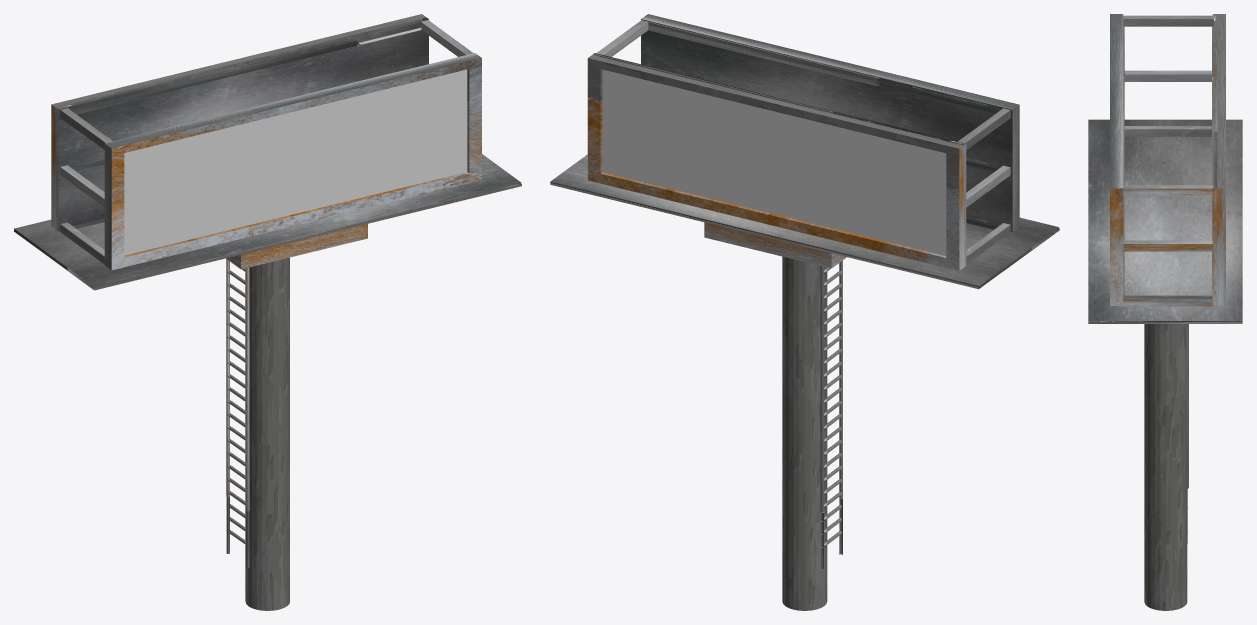
Rendered from cartel.fbx.
3 views of the same model, side by side, from view 1: azimuth 30°, elevation 25°; view 2: azimuth 150°, elevation 25°; view 3: azimuth 270°, elevation 25° (orthographic). The views are drawn at different scales.
Visible parts, largest first — view 1: Cube.006, Cube.002, Cylinder, Object, Cube.003, Cylinder.003, Cube.004, Cube.005; view 2: Cube.001, Object, Cylinder, Cube.002, Cube.003, Cylinder.003, Cube.005, Cube.004; view 3: Cube.003, Cylinder, Cube.004, Object, Cube.002, Cube.005, Cylinder.003.
Part boxes in pixels (bbox=[...]): Cube.006: bbox=[124, 69, 467, 255]; Cube.002: bbox=[51, 14, 428, 231]; Cylinder: bbox=[245, 257, 289, 610]; Object: bbox=[104, 53, 481, 270]; Cube.003: bbox=[14, 154, 521, 290]; Cylinder.003: bbox=[226, 259, 249, 567]; Cube.004: bbox=[60, 20, 473, 264]; Cube.005: bbox=[71, 22, 421, 228]; Cube.001: bbox=[602, 69, 946, 255]; Object: bbox=[641, 14, 1019, 231]; Cylinder: bbox=[782, 256, 827, 610]; Cube.002: bbox=[587, 53, 966, 270]; Cube.003: bbox=[550, 154, 1059, 289]; Cylinder.003: bbox=[820, 260, 842, 568]; Cube.005: bbox=[599, 22, 999, 229]; Cube.004: bbox=[595, 20, 1010, 264]; Cube.003: bbox=[1088, 119, 1242, 323]; Cylinder: bbox=[1144, 324, 1187, 610]; Cube.004: bbox=[1118, 15, 1213, 306]; Object: bbox=[1110, 14, 1123, 305]; Cube.002: bbox=[1212, 14, 1225, 305]; Cube.005: bbox=[1123, 20, 1213, 295]; Cylinder.003: bbox=[1187, 324, 1188, 543].
Size of the model in its own units: 1687 by 1959 by 548.
